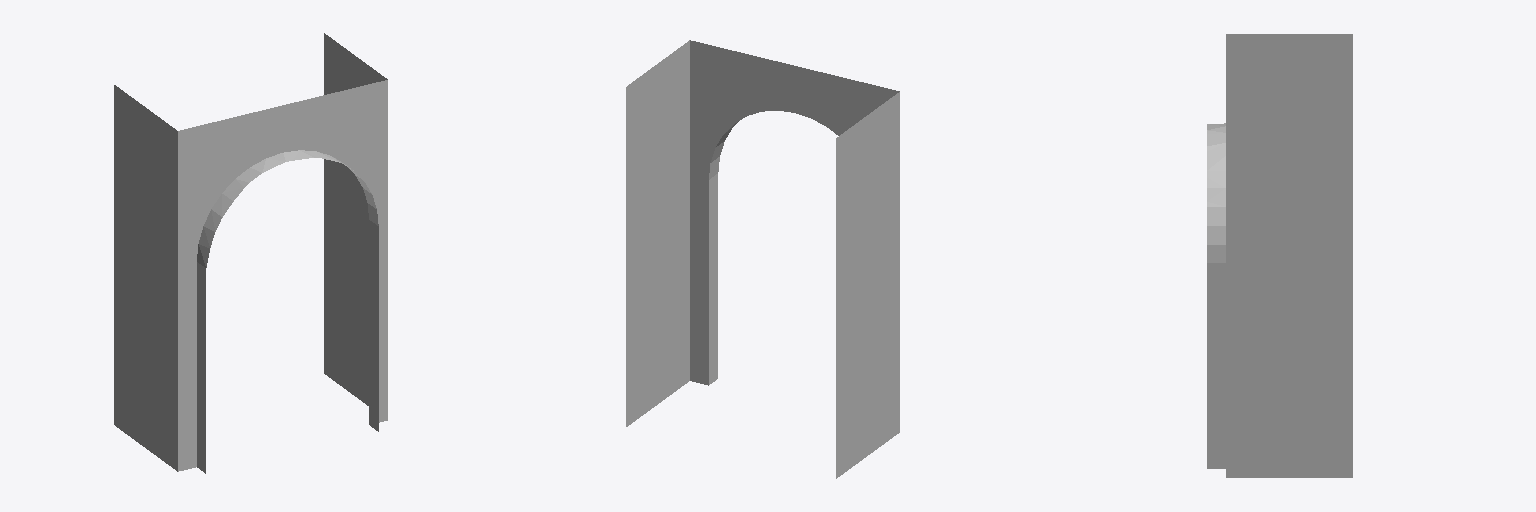
File: wall01b_arena.obj
The picture shows the model from 3 angles: view 1: azimuth 30°, elevation 25°; view 2: azimuth 150°, elevation 25°; view 3: azimuth 270°, elevation 25°; orthographic projection.
Visible parts, largest first — view 1: wall01b_arena; view 2: wall01b_arena; view 3: wall01b_arena.
Part boxes in pixels (x1,y1,x2,y2): wall01b_arena: (114,33,387,473); wall01b_arena: (626,40,899,478); wall01b_arena: (1207,34,1352,477).
Bounding box in the file's own units: 6.05 × 9.38 × 3.65.